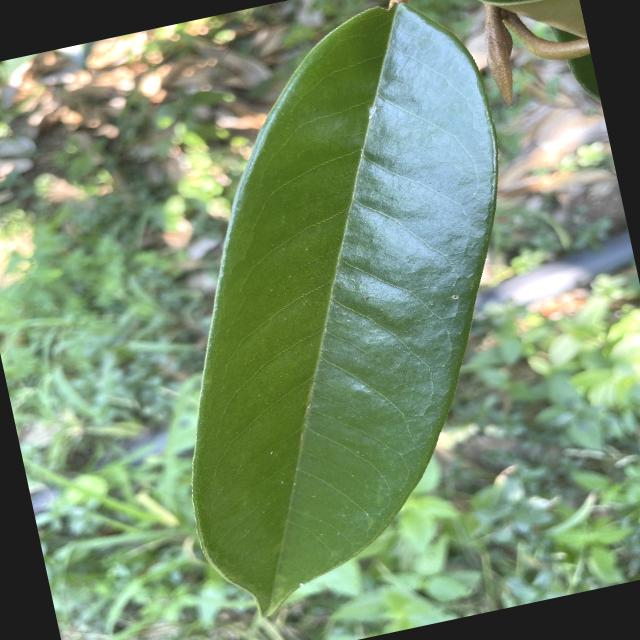No Disease: (88, 0, 597, 637)
